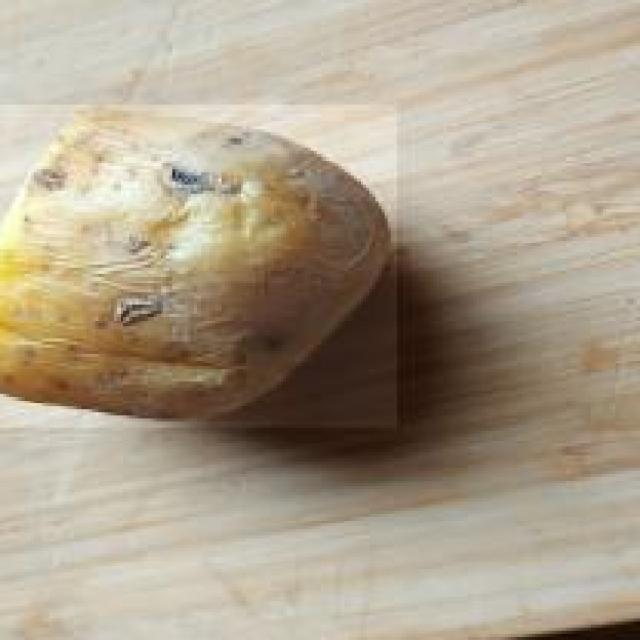potato: (0, 101, 397, 428)
